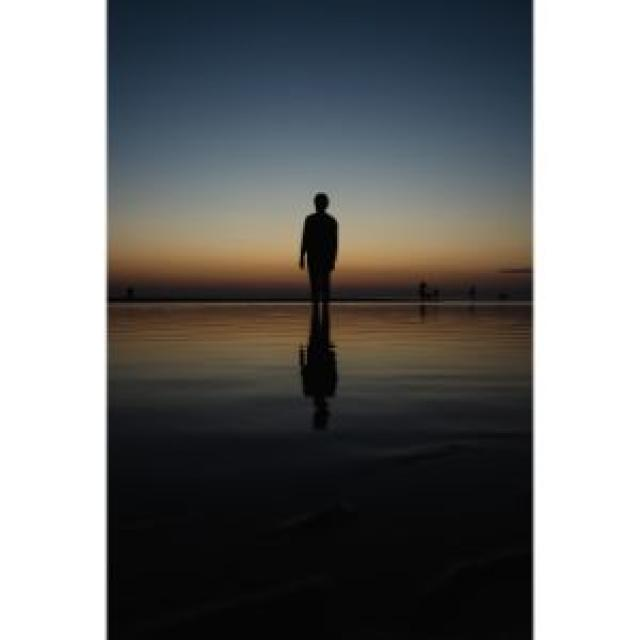nonfall: (274, 178, 359, 344)
